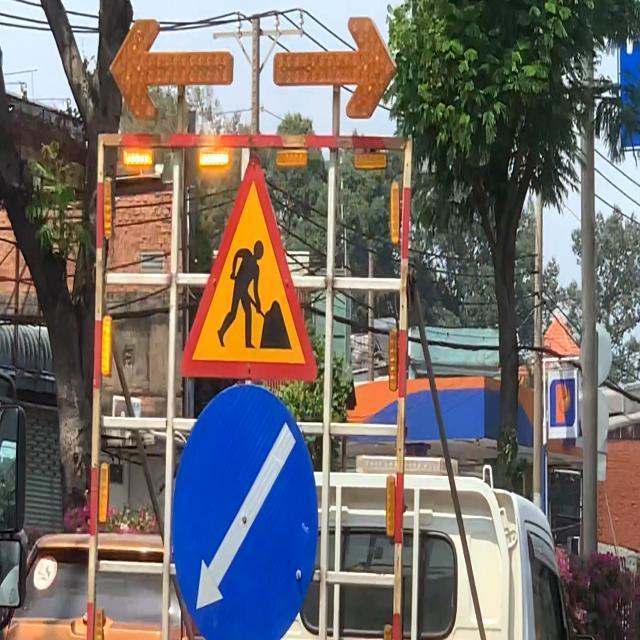227-cong-truong: (178, 160, 318, 385)
302a-huong-phai-di-vong-chuong-ngai-vat-1: (168, 386, 318, 640)
